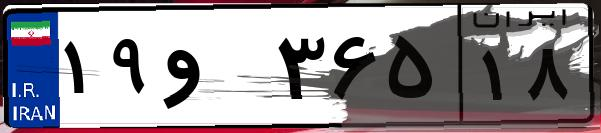1: (57, 26, 110, 100), (475, 38, 525, 113)
3: (270, 28, 330, 110)
5: (385, 28, 445, 110)
6: (330, 28, 385, 110)
8: (525, 38, 570, 115)
9: (110, 28, 158, 98)
و: (158, 20, 270, 120)
